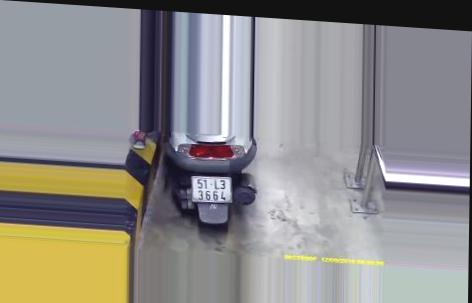License_Plate: (188, 171, 236, 206)
